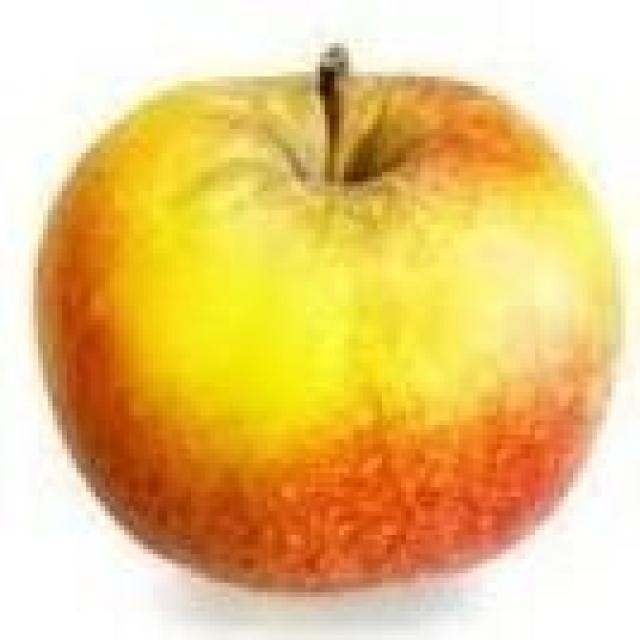Rotten Apple: (31, 67, 623, 592)
